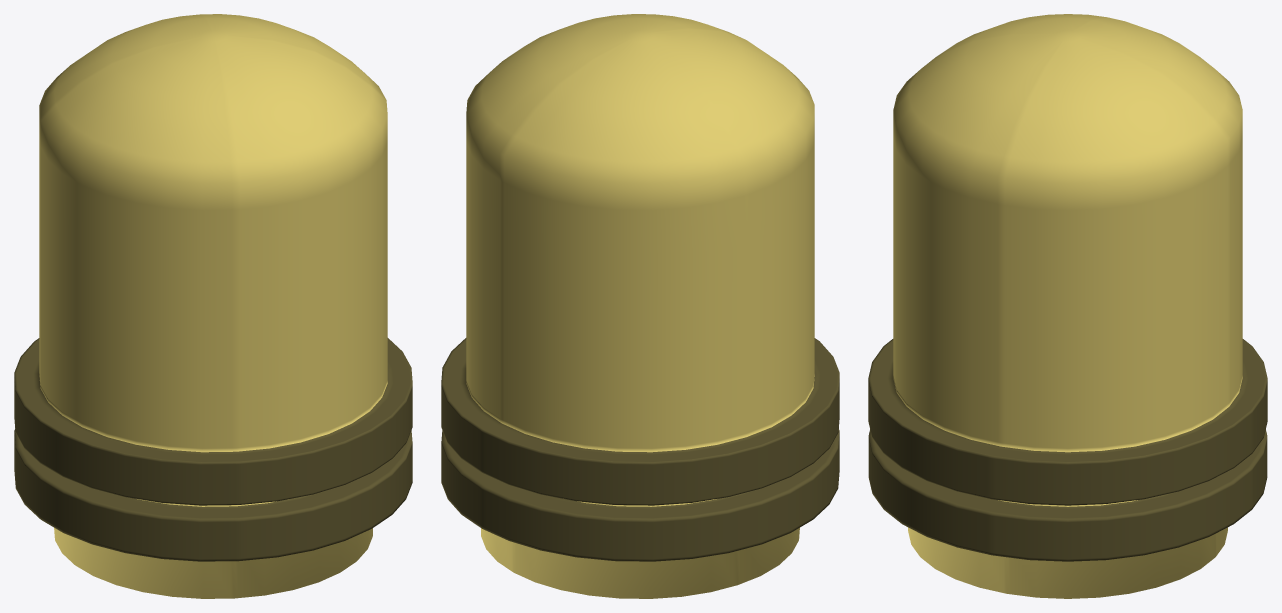
The model's file is Bala1.fbx.
3 views of the same model, side by side, from view 1: azimuth 30°, elevation 25°; view 2: azimuth 150°, elevation 25°; view 3: azimuth 270°, elevation 25° (orthographic).
Parts seen in each view (by area): view 1: Circle; view 2: Circle; view 3: Circle.
Part boxes in pixels (left/top/right/bottom): Circle: left=14, top=14, right=412, bottom=598; Circle: left=441, top=14, right=839, bottom=598; Circle: left=868, top=14, right=1267, bottom=598.
Size of the model in its own units: 39.85 by 54.63 by 39.85.
